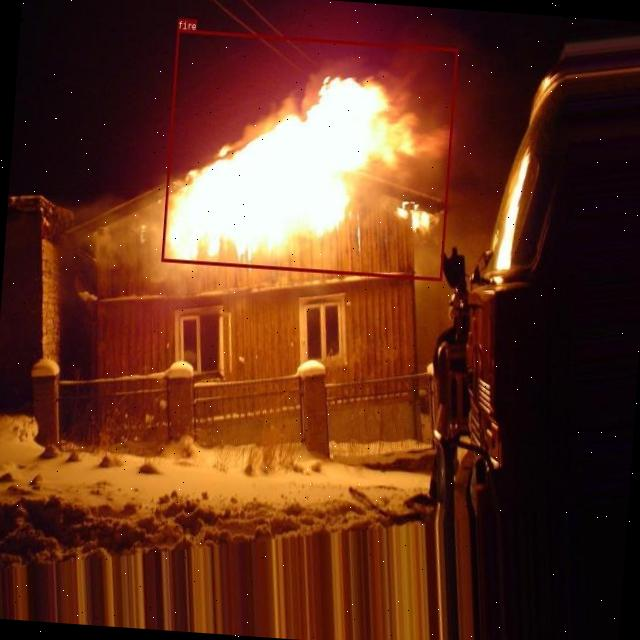fire: (160, 28, 458, 280)
